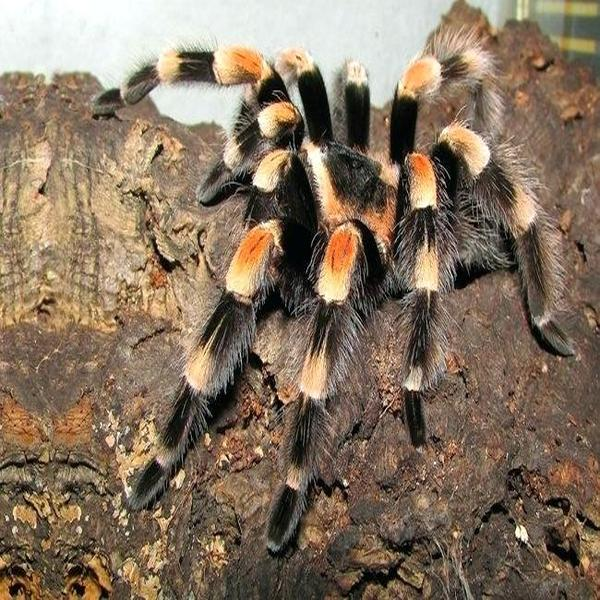Tarantula Spider: (131, 36, 575, 539)
